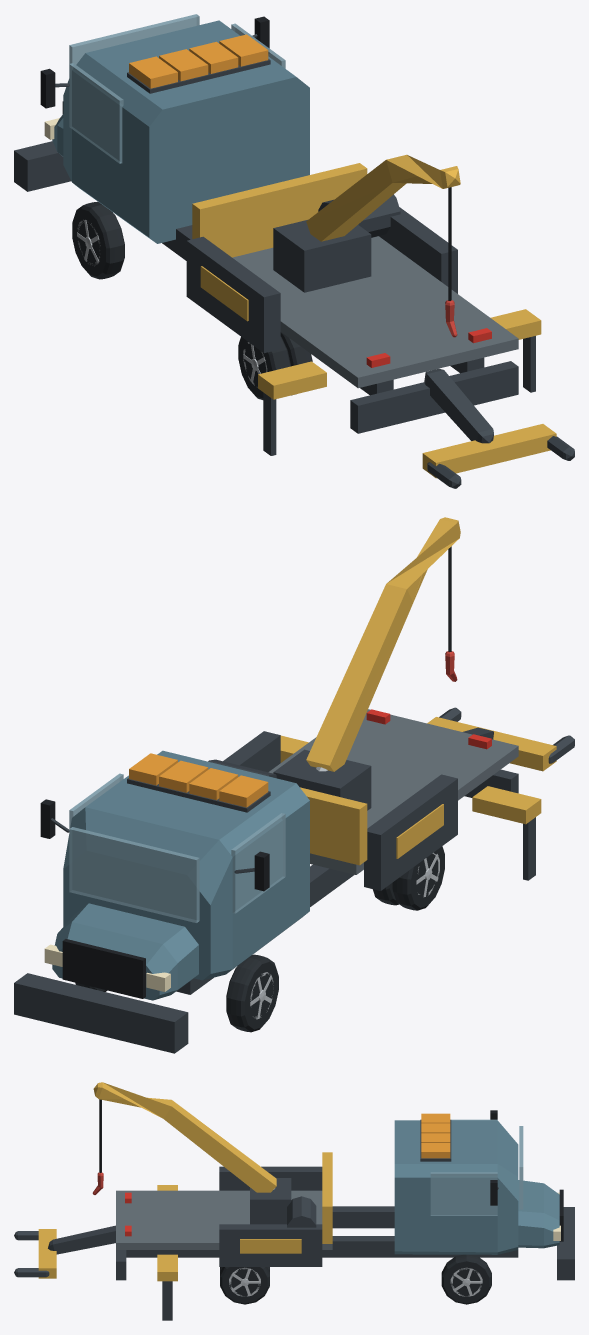
Rendered from LAND_12.obj.
The picture shows the model from 3 angles, top to bottom: view 1: azimuth 30°, elevation 25°; view 2: azimuth 150°, elevation 25°; view 3: azimuth 270°, elevation 25°; orthographic projection. The views are drawn at different scales.
Visible parts, largest first — view 1: cab, deck, toolboxes, deck_rail, wheel_lift, windows, boom_base, bumper_rear, boom, lightbar, outriggers, wheel_F_L (+6 smaller); view 2: cab, windows, deck, boom, toolboxes, bumper, hood, lightbar, deck_rail, grille, wheel_F_L, outriggers (+7 smaller); view 3: cab, deck, toolboxes, boom, frame, windows, hood, wheel_lift, wheel_F_R, wheel_R_R, lightbar, boom_base (+5 smaller).
Boxes of the visible parts, x1,y1,x2,y2 form: cab: (63,20,309,243); deck: (232,236,518,388); toolboxes: (186,207,457,353); deck_rail: (192,163,367,257); wheel_lift: (422,368,574,488); windows: (69,14,285,163); boom_base: (273,220,371,292); bumper_rear: (350,361,518,433); boom: (306,154,460,241); lightbar: (127,34,270,93); outriggers: (258,309,541,455); wheel_F_L: (72,201,124,279); cab: (63,750,309,980); windows: (69,773,285,922); deck: (268,709,518,874); boom: (306,517,460,771); toolboxes: (223,731,457,890); bumper: (14,973,188,1053); hood: (52,903,198,1000); lightbar: (127,753,270,812); deck_rail: (300,787,367,865); grille: (62,939,145,998); wheel_F_L: (226,954,278,1032); outriggers: (280,735,541,880); cab: (394,1120,518,1254); deck: (116,1190,332,1249); toolboxes: (219,1166,322,1266); boom: (93,1082,276,1192); frame: (126,1206,518,1257); windows: (430,1119,523,1215); hood: (518,1180,559,1248); wheel_lift: (14,1225,115,1278); wheel_F_R: (441,1254,491,1304); wheel_R_R: (220,1267,269,1304); lightbar: (420,1113,451,1161); boom_base: (250,1178,291,1224).
Size of the model in its own units: 4 by 4.12 by 10.88.
